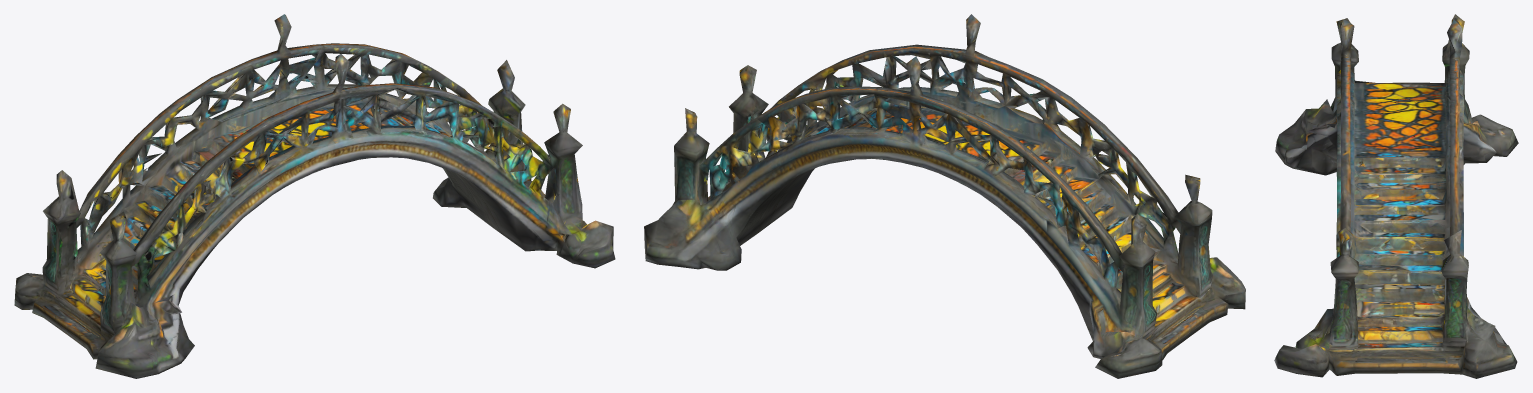
File: testGlassBridge.glb
3 views of the same model, side by side, from view 1: azimuth 30°, elevation 25°; view 2: azimuth 150°, elevation 25°; view 3: azimuth 270°, elevation 25° (orthographic). The views are drawn at different scales.
Parts seen in each view (by area): view 1: Mesh_0; view 2: Mesh_0; view 3: Mesh_0.
Boxes of the visible parts, <box> form: Mesh_0: <box>14,14,615,378</box>; Mesh_0: <box>644,14,1245,378</box>; Mesh_0: <box>1274,14,1518,378</box>.
Bounding box in the file's own units: 4.48 × 2 × 1.87.
Materials: 1 (1 with a texture image).
